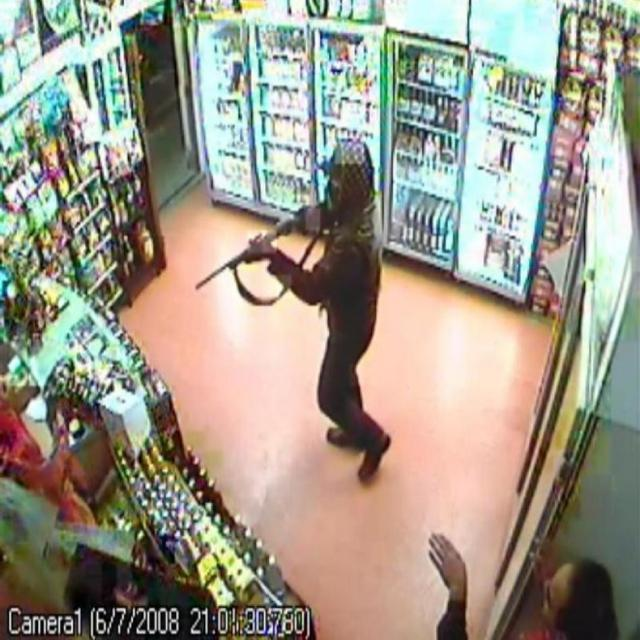gun: (195, 208, 347, 295)
